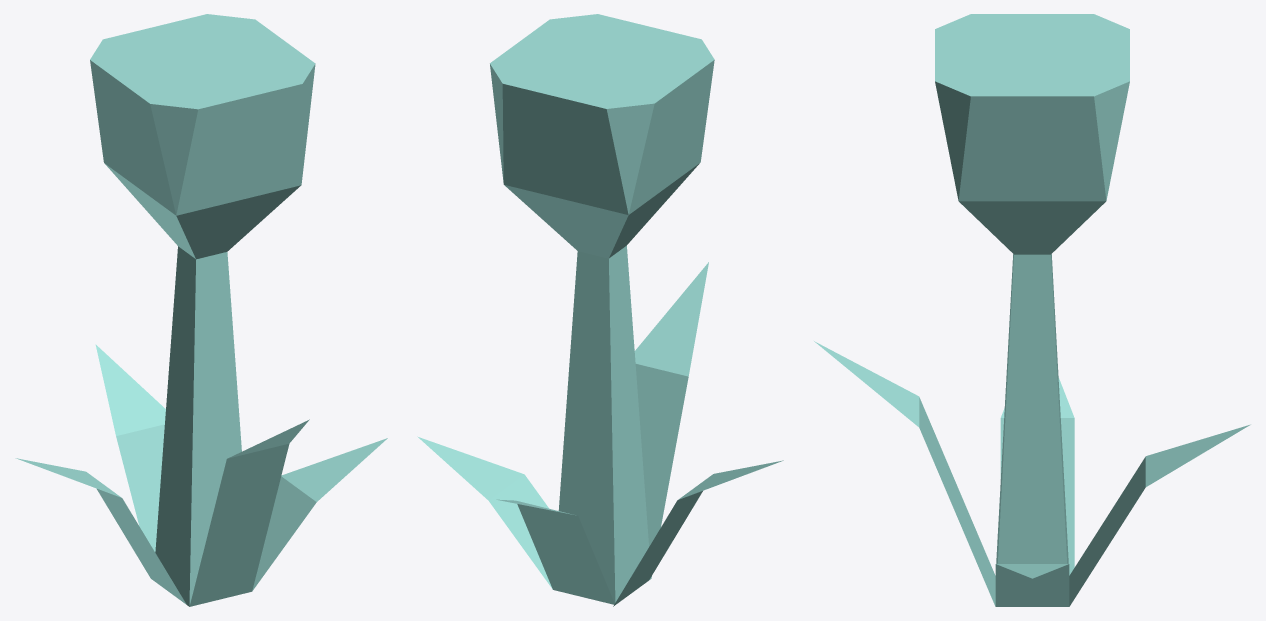
Rendered from flower_beige1.fbx.
3 renders of one model, left to right at view 1: azimuth 30°, elevation 25°; view 2: azimuth 150°, elevation 25°; view 3: azimuth 270°, elevation 25°, orthographic. The views are drawn at different scales.
Visible parts, largest first — view 1: flower_beige1; view 2: flower_beige1; view 3: flower_beige1.
Boxes of the visible parts, <box> form: flower_beige1: <box>15,14,387,606</box>; flower_beige1: <box>417,14,783,606</box>; flower_beige1: <box>814,14,1250,606</box>.
Bounding box in the file's own units: 62.27 × 84 × 62.27.
